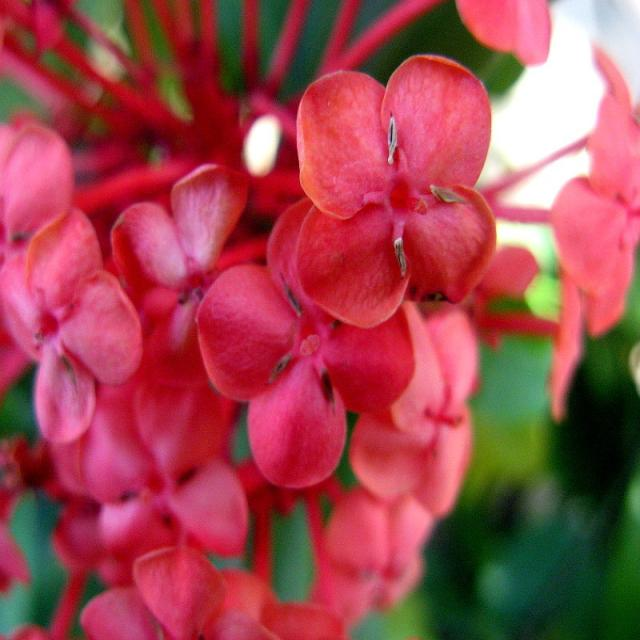Chinese-Ixora: (1, 0, 615, 617)
